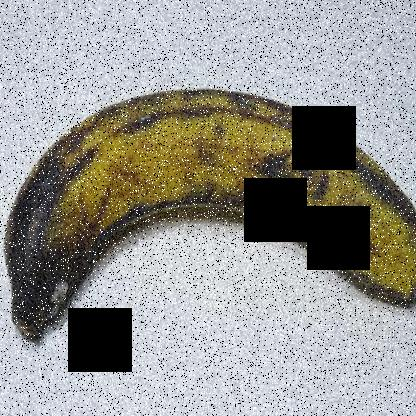overripe: (0, 71, 415, 371)
rotten: (0, 134, 110, 347)
